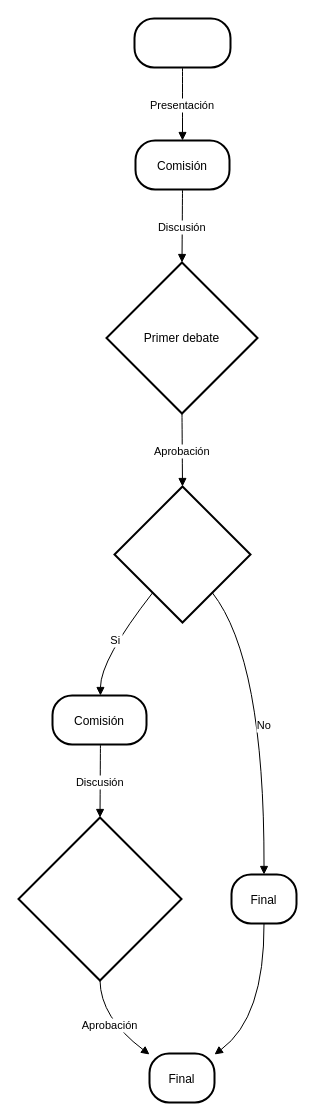
Some shapes in this 314 by 1120 pixel diagram are drawn without their labels. The shapes that lost their labels are listed below. From the top down, each one's box as (x1, y1, x2, y2) in pixels, then its label:
(133, 17, 231, 68): Iniciativa
(113, 485, 251, 623): Voto en sala
(17, 816, 182, 981): Segundo debate
